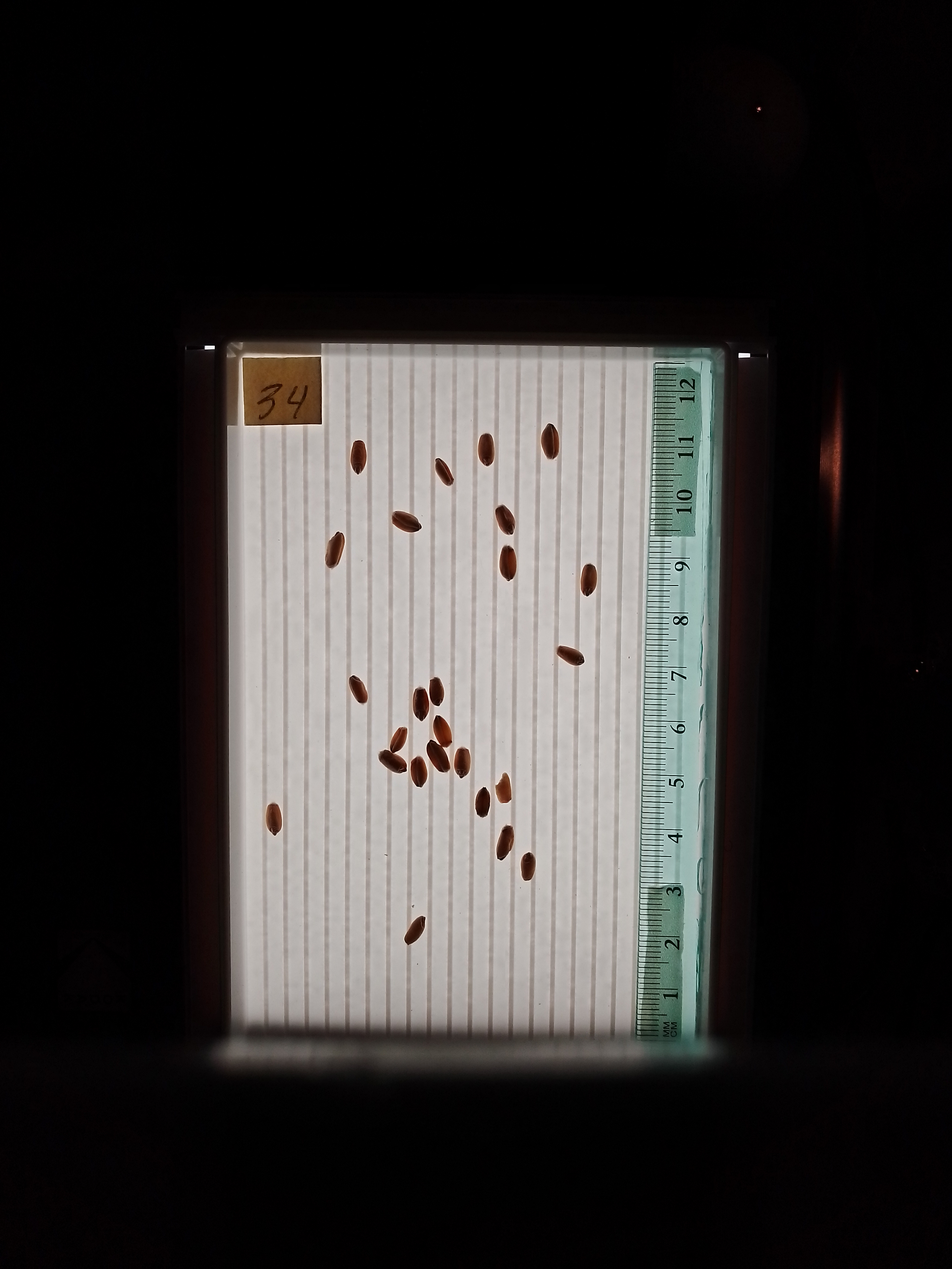seed mask: (325, 532, 345, 568), (427, 742, 450, 773), (379, 750, 407, 774), (392, 511, 420, 533), (541, 425, 559, 459), (499, 547, 517, 580), (350, 441, 367, 474), (405, 916, 425, 944), (580, 564, 598, 595), (433, 717, 452, 746), (478, 434, 495, 466), (497, 826, 513, 860), (557, 646, 584, 666), (410, 757, 428, 787), (495, 506, 514, 534), (349, 676, 368, 704), (413, 687, 429, 720), (454, 748, 471, 778), (266, 803, 282, 834), (435, 459, 453, 486), (429, 677, 444, 706), (390, 728, 407, 752), (476, 789, 490, 817), (521, 853, 535, 881)
